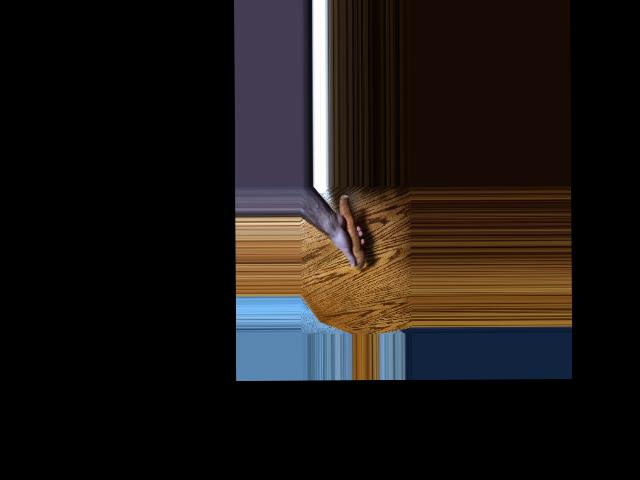sweet_potato: (337, 194, 365, 269)
